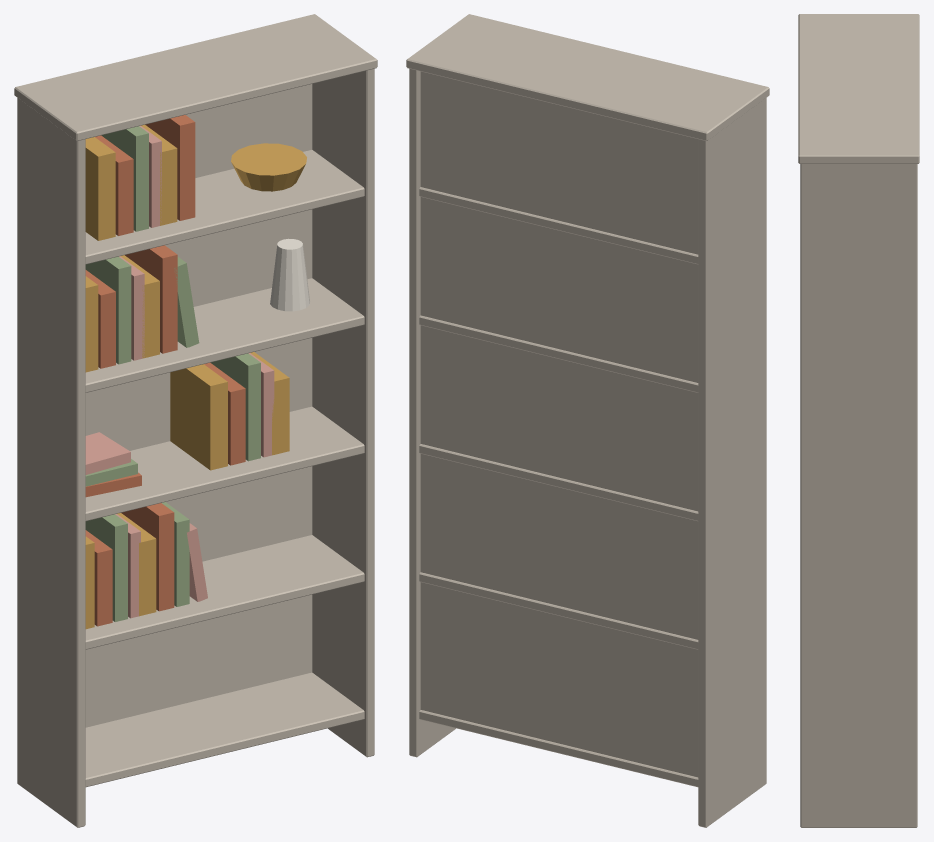
The model's file is bookshelf.glb.
3 renders of one model, left to right at view 1: azimuth 30°, elevation 25°; view 2: azimuth 150°, elevation 25°; view 3: azimuth 270°, elevation 25°, orthographic. The views are drawn at different scales.
Visible parts, largest first — view 1: bookshelf; view 2: bookshelf; view 3: bookshelf.
Part boxes in pixels (x1,y1,x2,y2): bookshelf: [14, 14, 377, 827]; bookshelf: [406, 14, 769, 827]; bookshelf: [798, 14, 919, 827].
Bounding box in the file's own units: 0.86 × 1.9 × 0.31.
